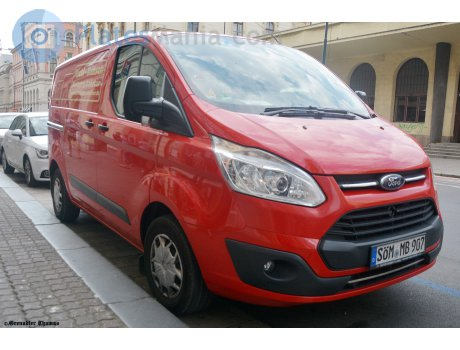License Plates: (385, 240, 424, 256)
